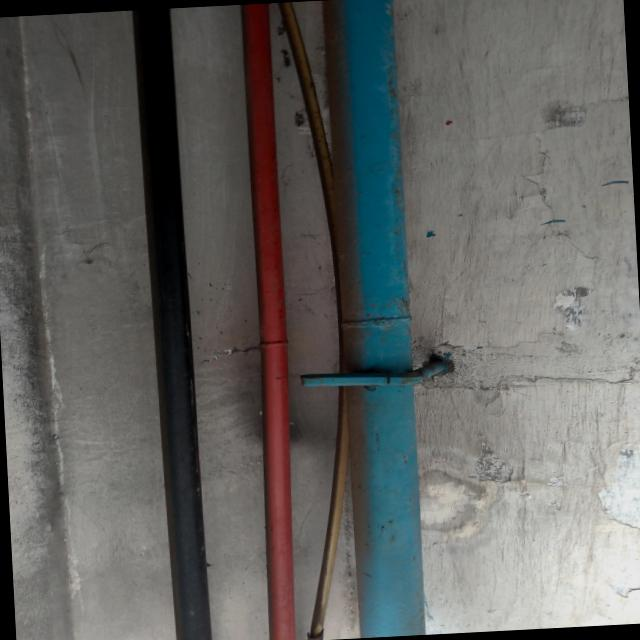gas: (324, 0, 430, 637), (131, 6, 214, 640), (234, 2, 304, 640)
